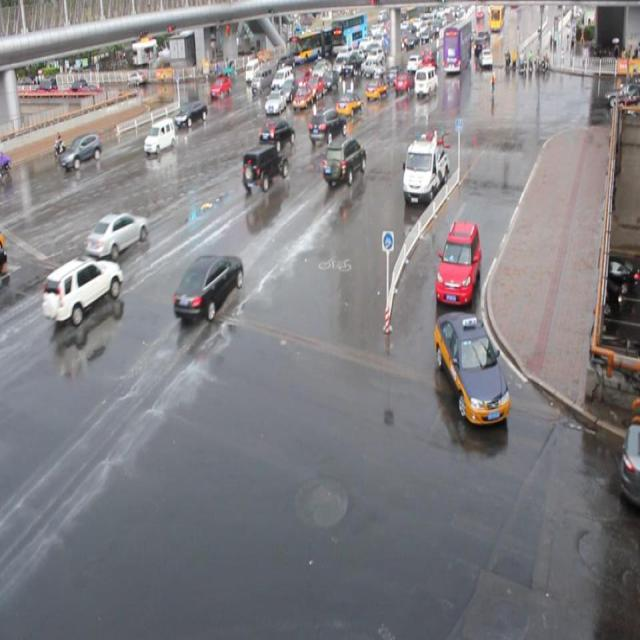bus: (401, 133, 447, 202)
car: (433, 310, 509, 424), (42, 255, 122, 325), (173, 253, 243, 322), (434, 220, 480, 304), (85, 211, 149, 258), (242, 143, 288, 190), (322, 136, 366, 184), (60, 132, 102, 169), (307, 107, 346, 143), (257, 117, 294, 152), (174, 99, 208, 127), (334, 89, 362, 117), (364, 75, 388, 99), (264, 90, 286, 114), (292, 84, 312, 110), (209, 75, 231, 98), (393, 71, 414, 93), (279, 78, 298, 101), (306, 74, 324, 98), (293, 69, 310, 91)
truck: (144, 117, 176, 153), (413, 65, 437, 96), (251, 66, 273, 92)
